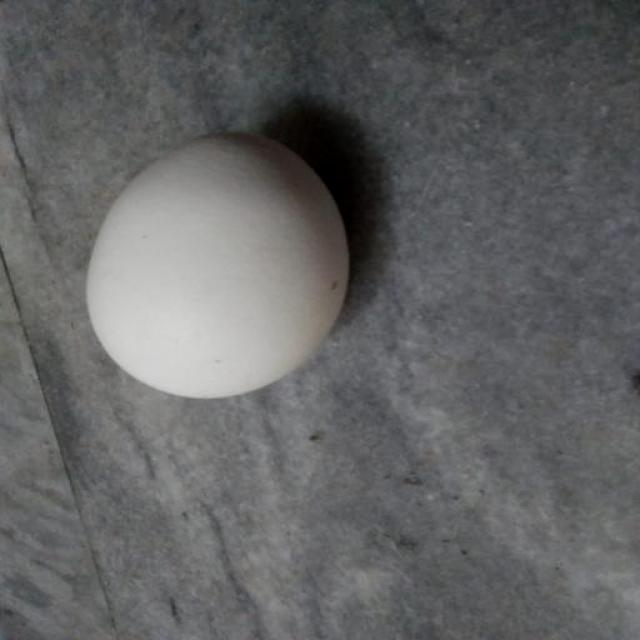telur: (82, 120, 355, 402)
